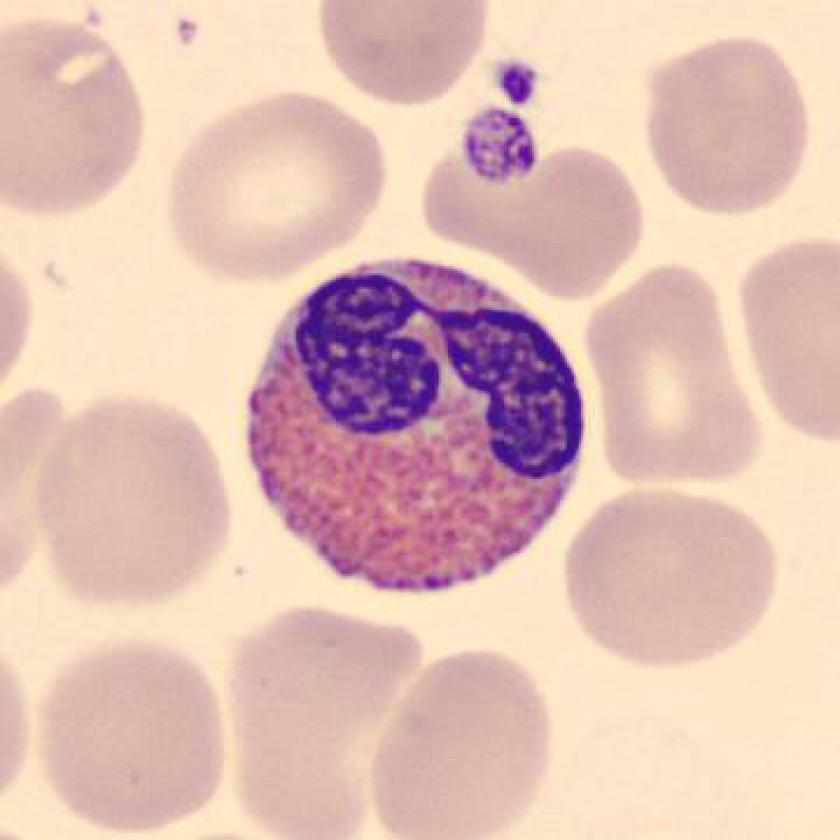eosinophil: (232, 242, 594, 607)
